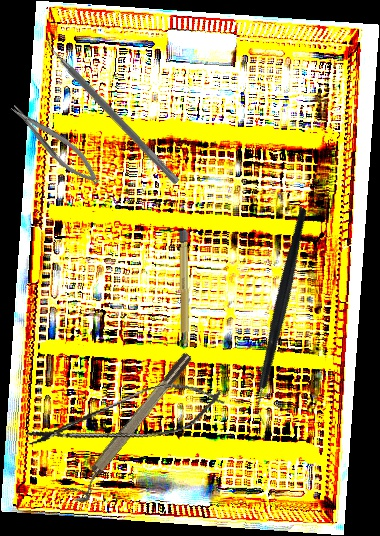Chopper: (189, 206, 378, 427)
Fixation Ring: (63, 349, 202, 508)
Micro Scissor: (22, 372, 229, 465)
Needle Holder: (6, 95, 106, 193)
Scalpel Handle: (178, 229, 190, 350)
Spatula Surgical: (38, 32, 186, 186)
